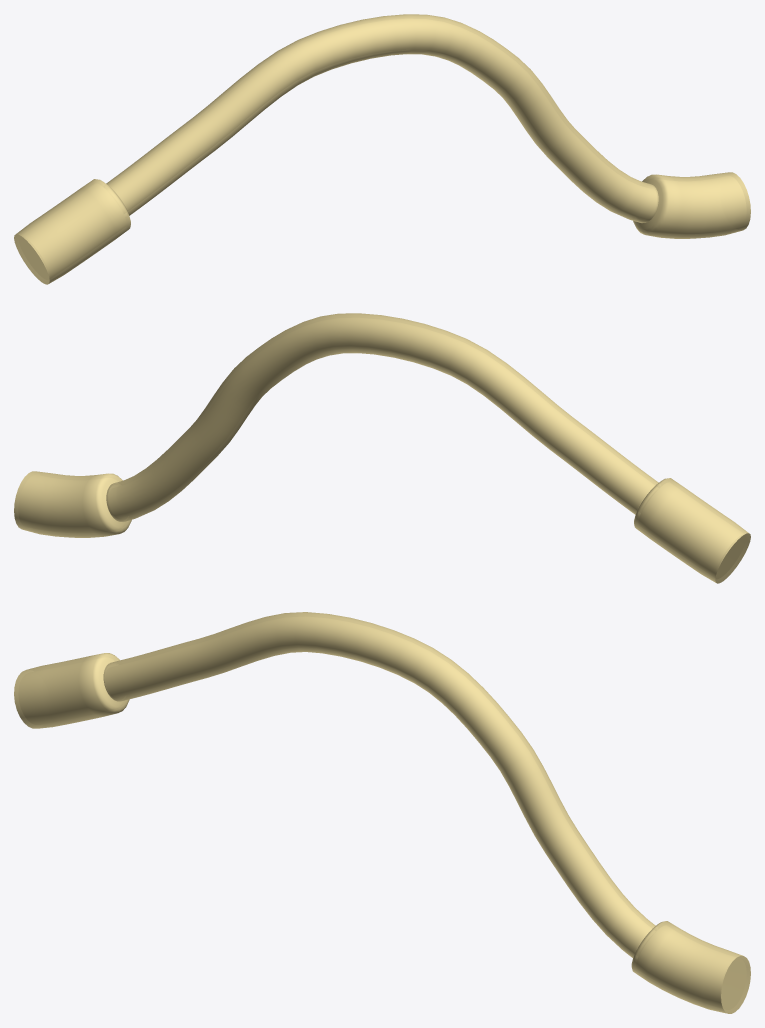
Rendered from gum_pipe_real.fbx.
3 views of the same model, one above another, from view 1: azimuth 30°, elevation 25°; view 2: azimuth 150°, elevation 25°; view 3: azimuth 330°, elevation 25° (orthographic).
Parts seen in each view (by area): view 1: Loft003; view 2: Loft003; view 3: Loft003.
Part boxes in pixels (<box>): Loft003: <box>14,14,750,284</box>; Loft003: <box>14,313,750,583</box>; Loft003: <box>14,612,750,1013</box>.
Size of the model in its own units: 37.03 by 14.77 by 2.8.
